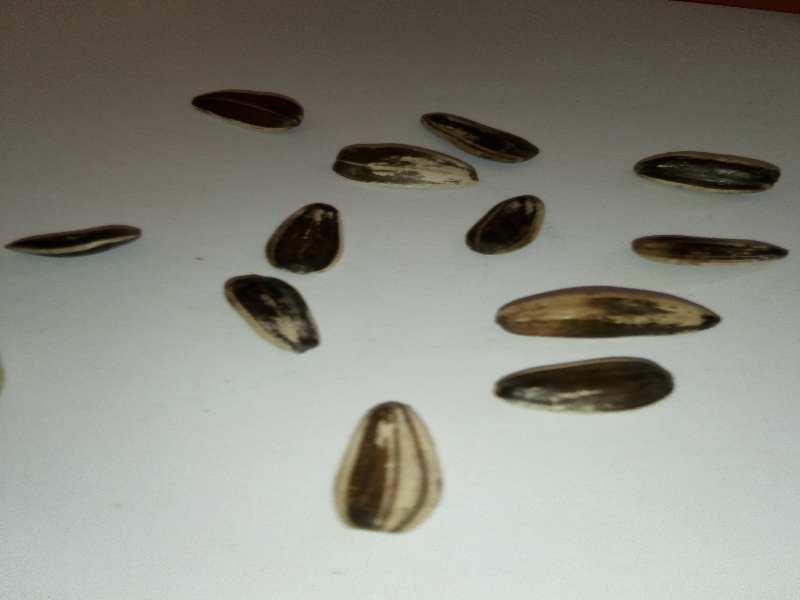girasol: (325, 398, 450, 540), (486, 276, 737, 344), (488, 350, 680, 425), (463, 191, 560, 262)
